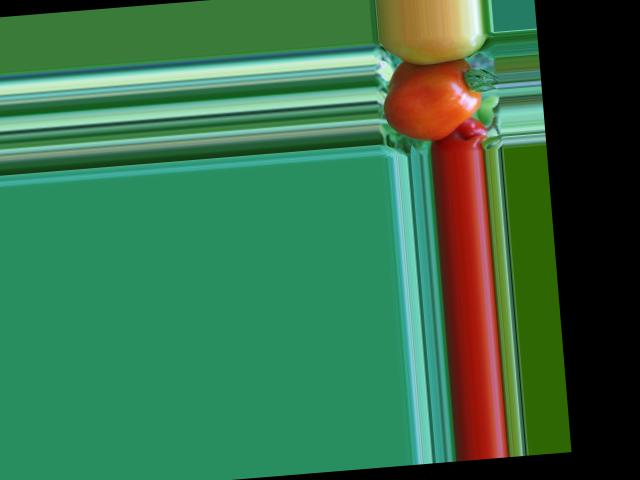tomato: (380, 58, 484, 143)
